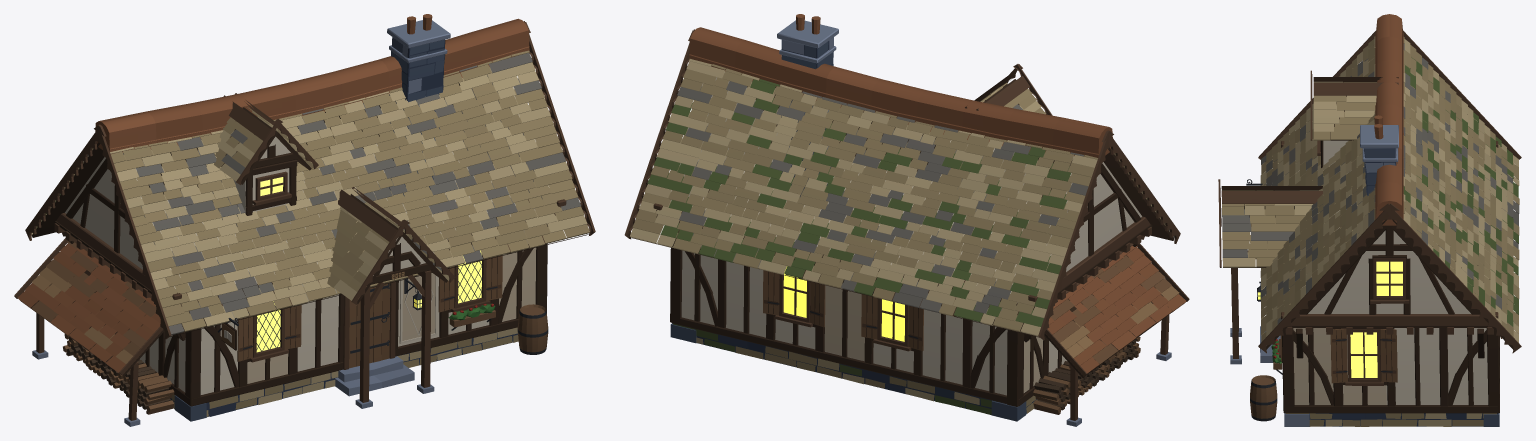
The model's file is house_01.glb.
The picture shows the model from 3 angles, left to right: view 1: azimuth 30°, elevation 25°; view 2: azimuth 150°, elevation 25°; view 3: azimuth 270°, elevation 25°; orthographic projection. The views are drawn at different scales.
Visible parts, largest first — view 1: isl_house_01; view 2: isl_house_01; view 3: isl_house_01.
Part boxes in pixels (bbox=[...]): isl_house_01: bbox=[14, 14, 595, 426]; isl_house_01: bbox=[624, 14, 1189, 426]; isl_house_01: bbox=[1218, 14, 1521, 426].
Bounding box in the file's own units: 10.91 × 6.82 × 6.86.
